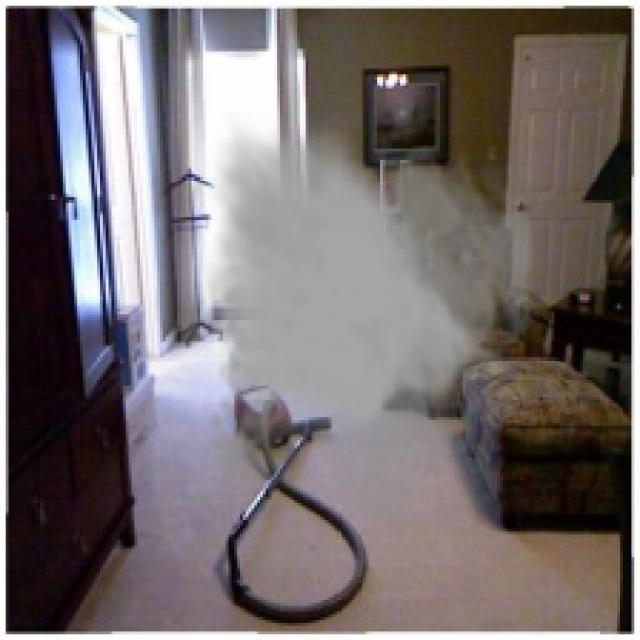smoke: (197, 111, 540, 526)
